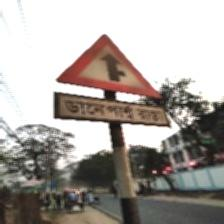Side-road-right: (54, 33, 168, 129)
